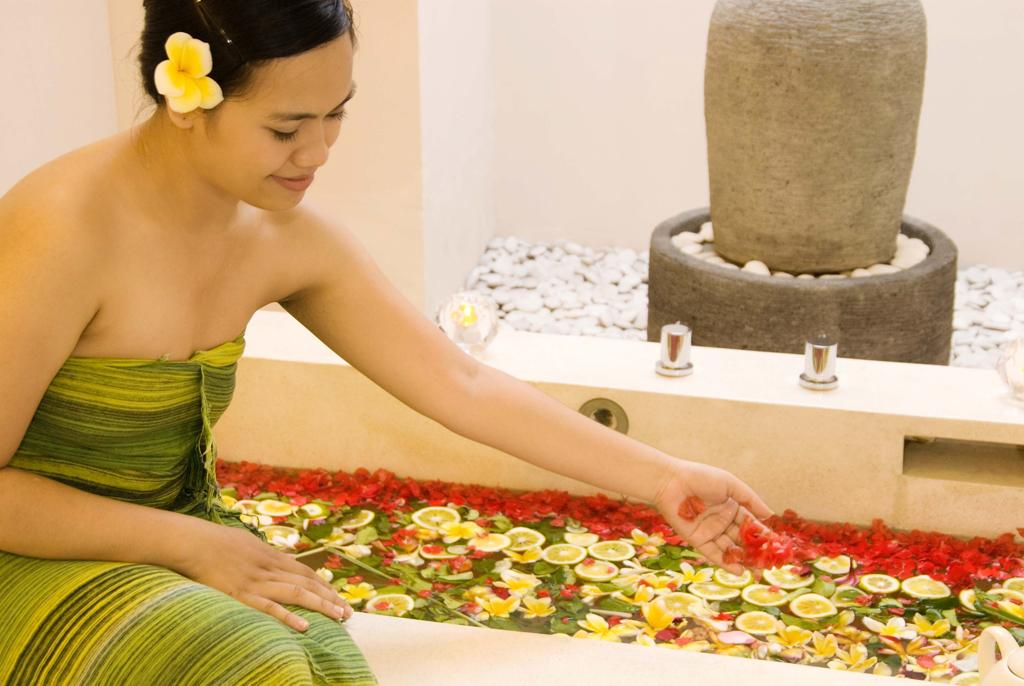face: (222, 74, 348, 218)
